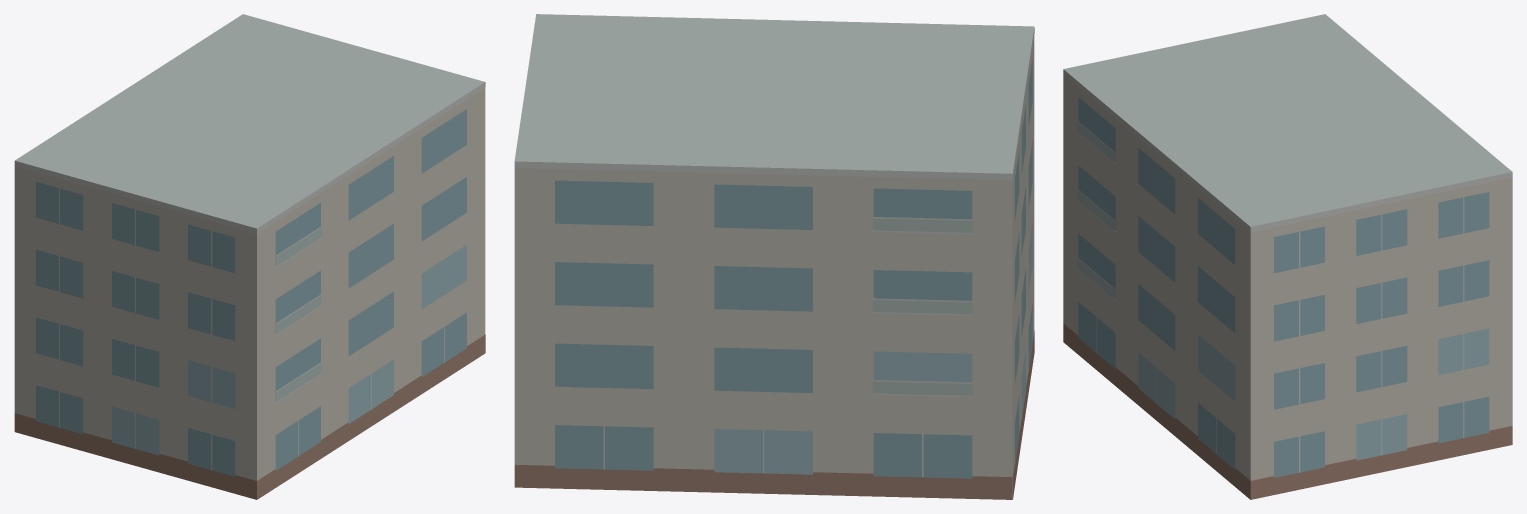
Rendered from survey-upis-32773208.glb.
3 views of the same model, side by side, from view 1: azimuth 30°, elevation 25°; view 2: azimuth 150°, elevation 25°; view 3: azimuth 270°, elevation 25° (orthographic). The views are drawn at different scales.
Parts seen in each view (by area): view 1: survey-upis-32773208.tmp; view 2: survey-upis-32773208.tmp; view 3: survey-upis-32773208.tmp.
Part boxes in pixels (x1,y1,x2,y2): survey-upis-32773208.tmp: [14, 14, 485, 499]; survey-upis-32773208.tmp: [514, 14, 1034, 499]; survey-upis-32773208.tmp: [1063, 14, 1512, 499].
Bounding box in the file's own units: 20.42 × 12.2 × 18.21.
